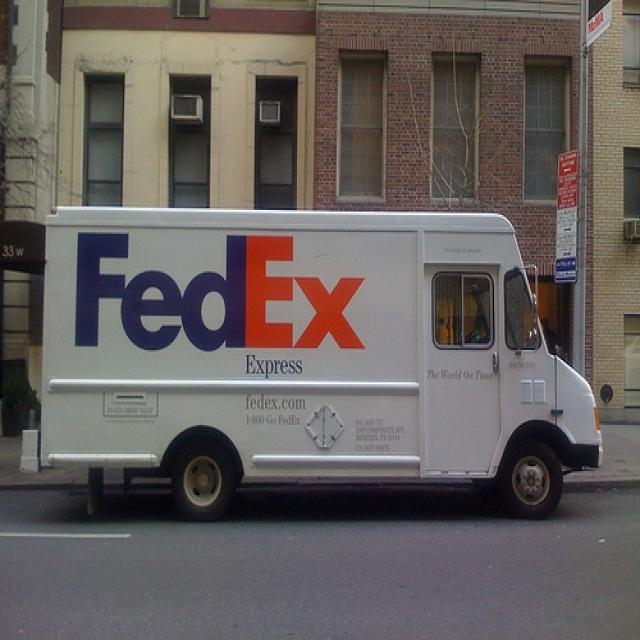fedex: (72, 231, 374, 356)
